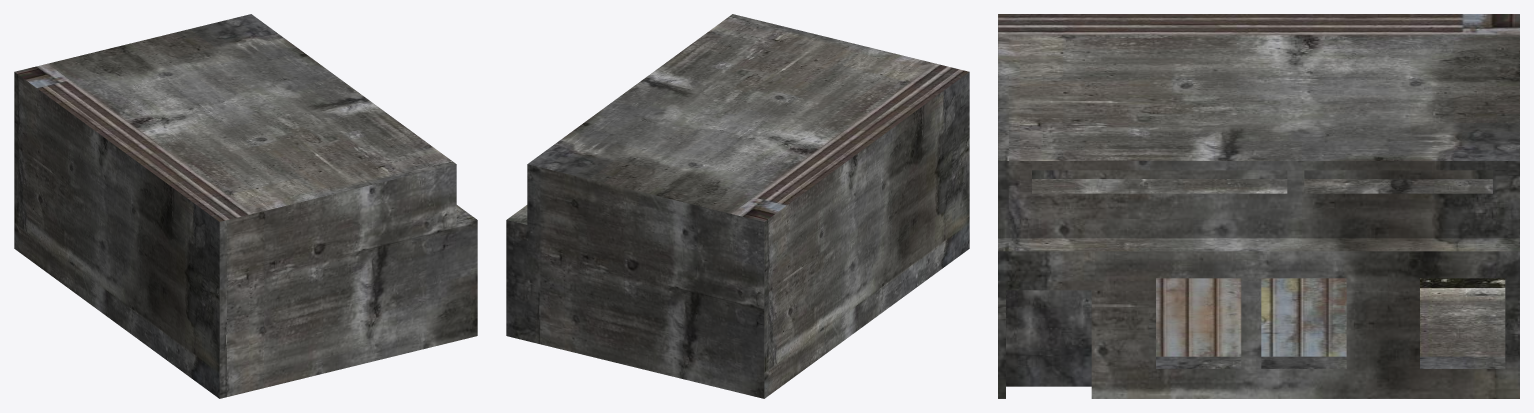
3 views of the same model, side by side, from view 1: azimuth 30°, elevation 25°; view 2: azimuth 150°, elevation 25°; view 3: azimuth 270°, elevation 25° (orthographic). The views are drawn at different scales.
Parts seen in each view (by area): view 1: Cube.069; view 2: Cube.069; view 3: Cube.069.
Boxes of the visible parts, bbox=[...] form: Cube.069: bbox=[14, 14, 477, 398]; Cube.069: bbox=[506, 14, 969, 398]; Cube.069: bbox=[998, 14, 1519, 398].
Bounding box in the file's own units: 2.18 × 1.43 × 3.
Materials: 1 (1 with a texture image).
